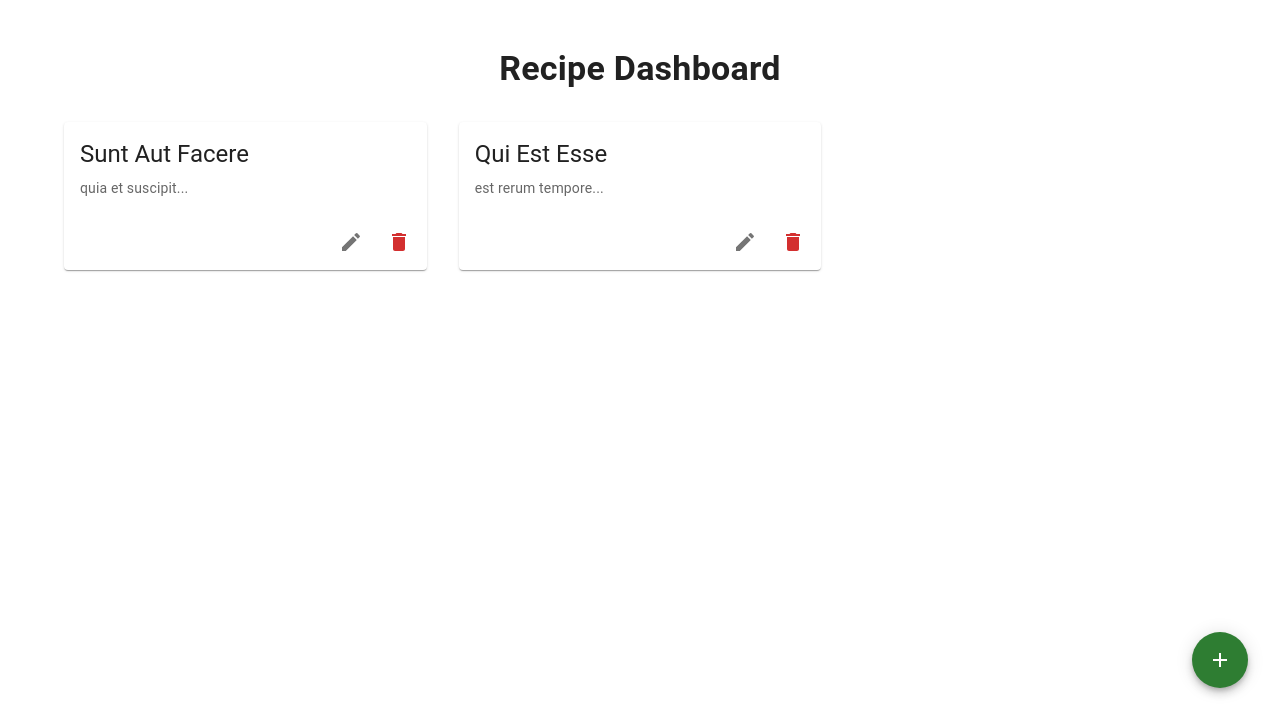
it: DashboardPage › updates an existing recipe
Expected: the text "sunt aut facere quia et suscipit..." is shown, [64,122,427,270]
Click the button named "edit sunt aut facere" at x=351, y=242, box [331,222,371,262]
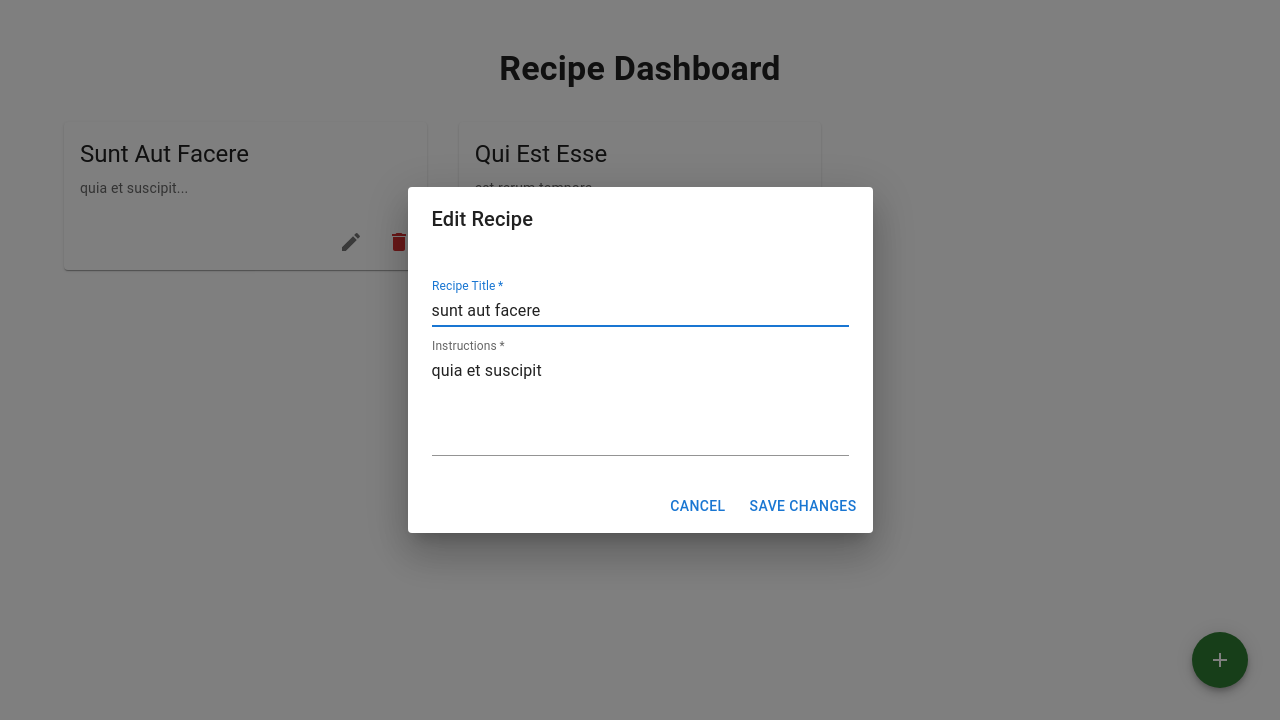
Now the dialog "Edit Recipe" is shown, box [408,187,872,533]
Replace the text in the field showing "sunt aut facere" with "Updated Recipe Title" at x=640, y=311, box [432,295,848,327]
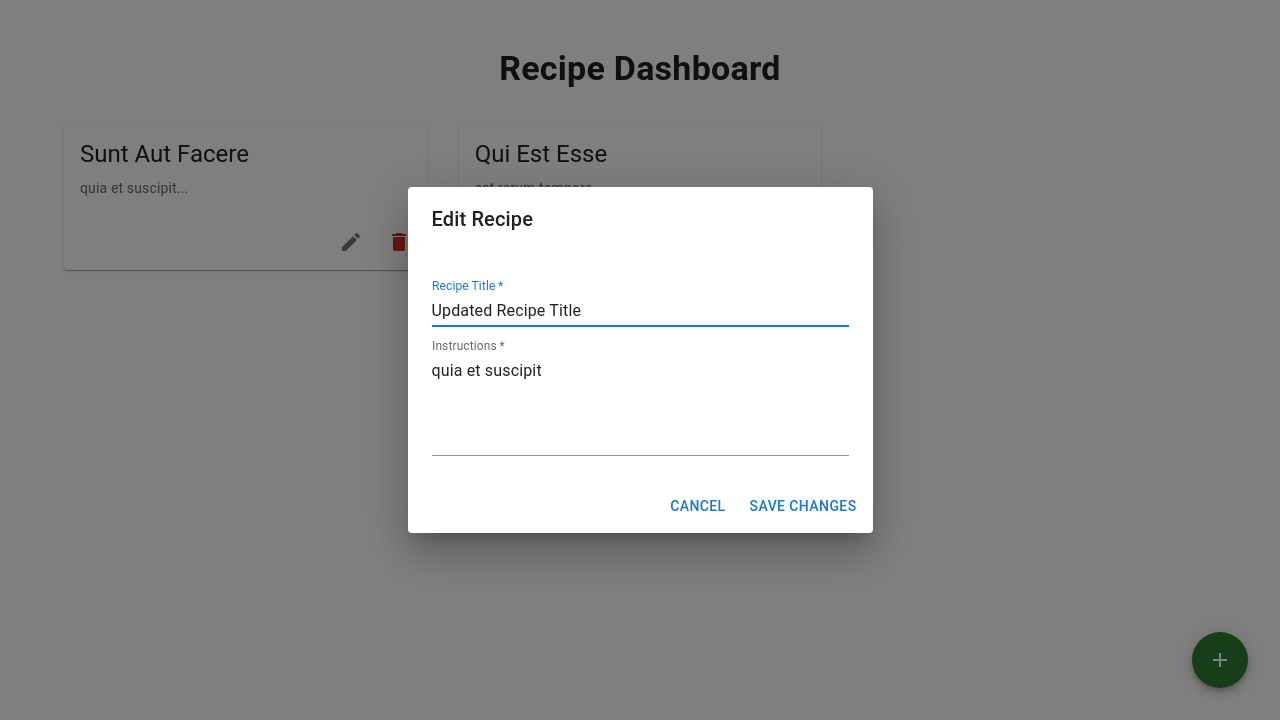
Click the button "Save Changes" at x=803, y=507, box [742,488,864,525]
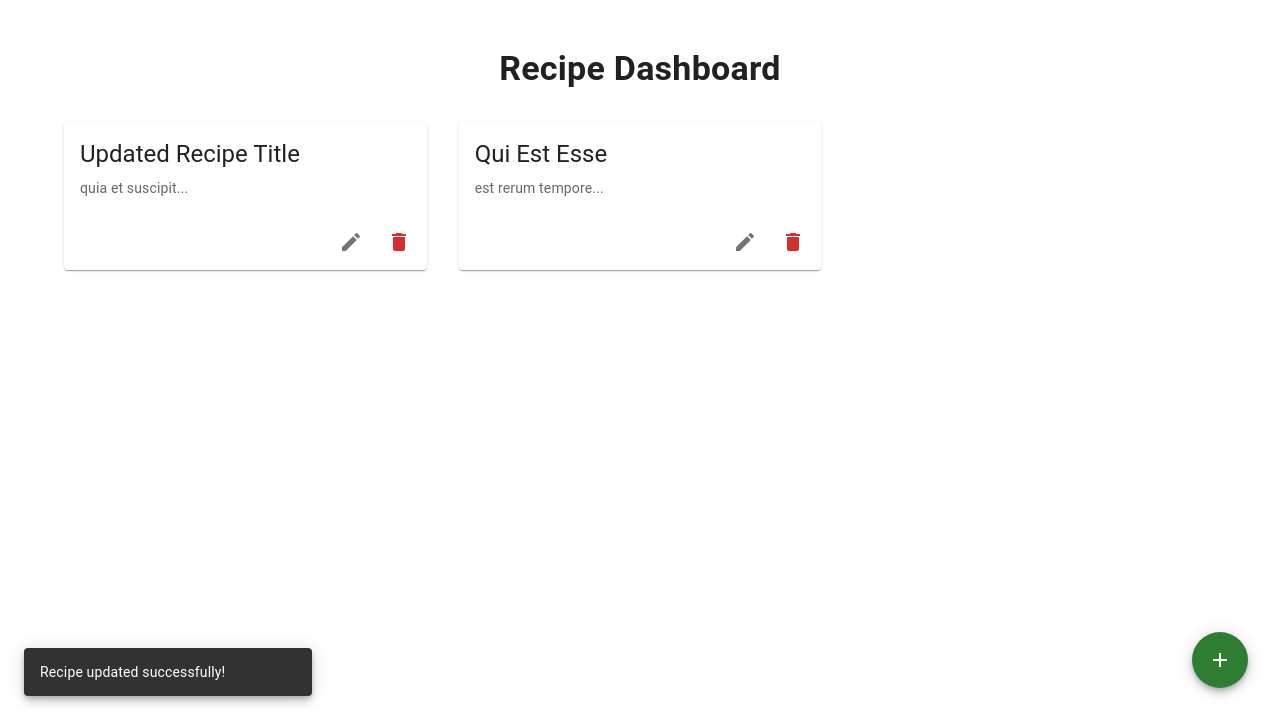
Now the dialog is gone
Now the heading "Updated Recipe Title" is shown, box [80,140,300,168]
Now the heading "sunt aut facere" is gone
